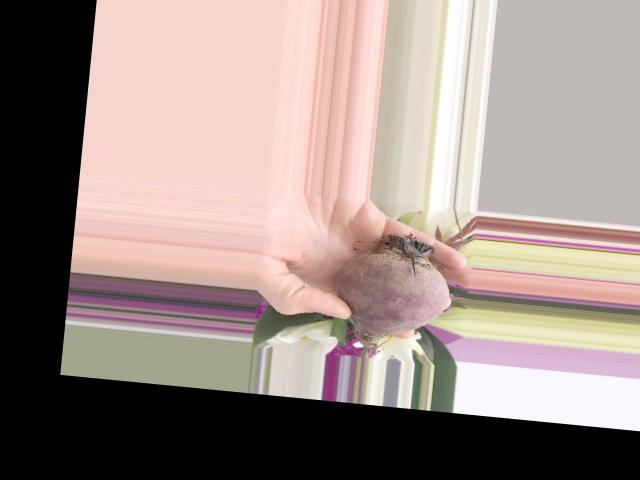beet: (329, 225, 456, 365)
